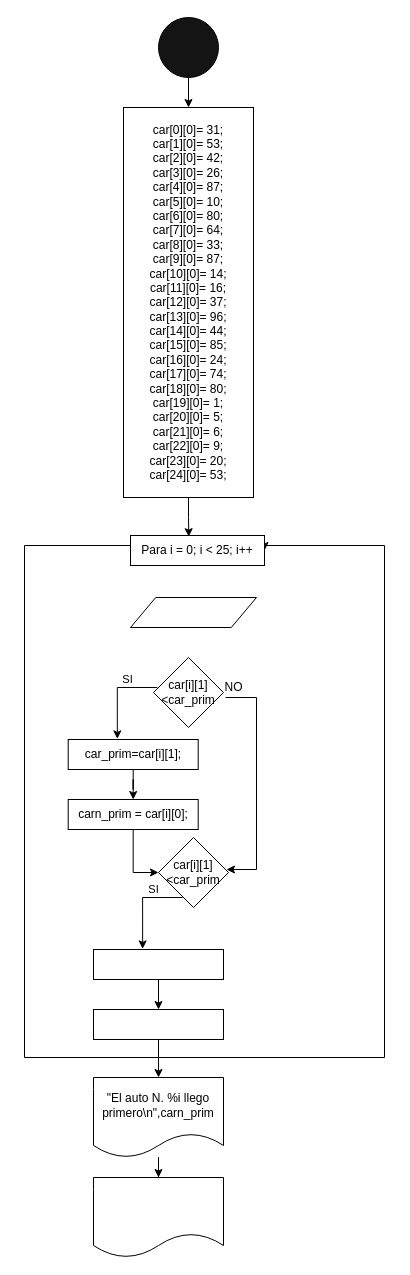
Some shapes in this 410 by 1275 pixel diagram are drawn without their labels. The shapes that lost their labels are listed below. From the top down, each one's box as (x1, y1, x2, y2) in pixels, then its label:
(130, 596, 256, 628): car[i][1]);
(92, 948, 224, 980): car_ult=car[i][1];
(92, 1008, 224, 1040): carn_ult = car[i][0];
(92, 1176, 224, 1258): El auto N. %i llego ultimo\n",carn_ult
